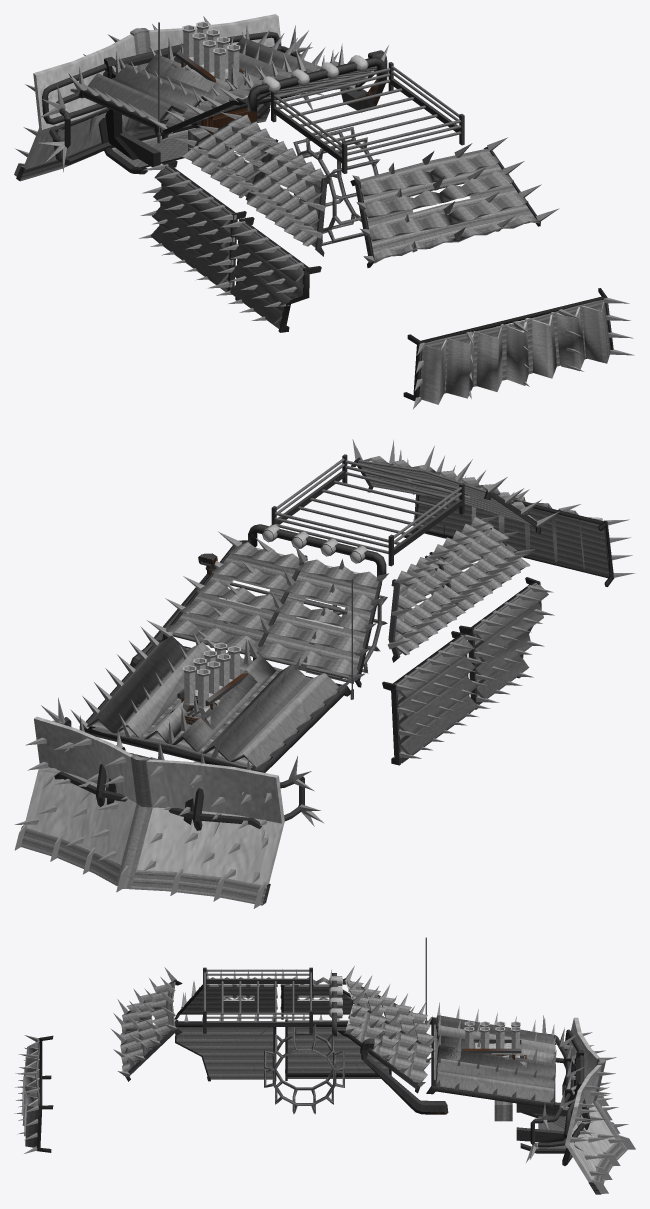
The model's file is CarModern2Armor.fbx.
3 renders of one model, top to bottom at view 1: azimuth 30°, elevation 25°; view 2: azimuth 150°, elevation 25°; view 3: azimuth 270°, elevation 25°, orthographic. The views are drawn at different scales.
Parts seen in each view (by area): view 1: trunkreinforcedrear, plow, windowreinforcedrear, roofrack, doorfrontreinforcedleft, hoodreinforcedfront, windowheavyrear, hoodreinforcedfrontscoop, doorrearreinforcedleft, windowrearreinforcedleft, windowfrontreinforcedleft, airscooppiped (+23 smaller); view 2: plow, hoodreinforcedfront, plow_spiked, windowreinforcedfront, hoodreinforcedfrontscoop, windowheavyfront, roofrack, doorfrontreinforcedleft, trunkheavyrear, trunkheavyspikedrear, doorrearreinforcedleft, windowrearreinforcedleft (+22 smaller); view 3: hoodreinforcedfront, hoodreinforcedfrontscoop, plow, doorrearheavyleft, windowreinforcedfront, roofrack, doorfrontheavyleft, windowreinforcedrear, chaintires, windowrearheavyleft, plow_spiked, trunkreinforcedrear (+19 smaller).
Part boxes in pixels (x1,y1,x2,y2): trunkreinforcedrear: (419, 296, 610, 404); plow: (14, 14, 281, 181); windowreinforcedrear: (360, 151, 540, 263); roofrack: (271, 62, 464, 173); doorfrontreinforcedleft: (151, 164, 235, 291); hoodreinforcedfront: (86, 37, 320, 128); windowheavyrear: (350, 147, 540, 267); hoodreinforcedfrontscoop: (86, 38, 320, 122); doorrearreinforcedleft: (230, 221, 308, 328); windowrearreinforcedleft: (246, 141, 324, 246); windowfrontreinforcedleft: (182, 114, 275, 198); airscooppiped: (167, 21, 257, 132); plow: (14, 716, 284, 908); hoodreinforcedfront: (84, 636, 345, 771); plow_spiked: (14, 719, 281, 884); windowreinforcedfront: (166, 542, 378, 676); hoodreinforcedfrontscoop: (84, 635, 345, 770); windowheavyfront: (169, 540, 383, 687); roofrack: (271, 454, 464, 566); doorfrontreinforcedleft: (393, 635, 478, 763); trunkheavyrear: (403, 494, 614, 586); trunkheavyspikedrear: (413, 489, 635, 577); doorrearreinforcedleft: (471, 582, 548, 704); windowrearreinforcedleft: (433, 517, 530, 611); hoodreinforcedfront: (431, 1015, 555, 1104); hoodreinforcedfrontscoop: (431, 1015, 555, 1105); plow: (539, 1017, 635, 1194); doorrearheavyleft: (175, 1019, 276, 1081); windowreinforcedfront: (346, 980, 433, 1083); roofrack: (203, 967, 312, 1033); doorfrontheavyleft: (285, 1019, 391, 1080); windowreinforcedrear: (120, 983, 170, 1075); chaintires: (264, 1024, 344, 1114); windowrearheavyleft: (174, 984, 274, 1019); plow_spiked: (570, 1032, 629, 1179); trunkreinforcedrear: (21, 1038, 42, 1147).
Bounding box in the file's own units: 278 × 220 × 703.
